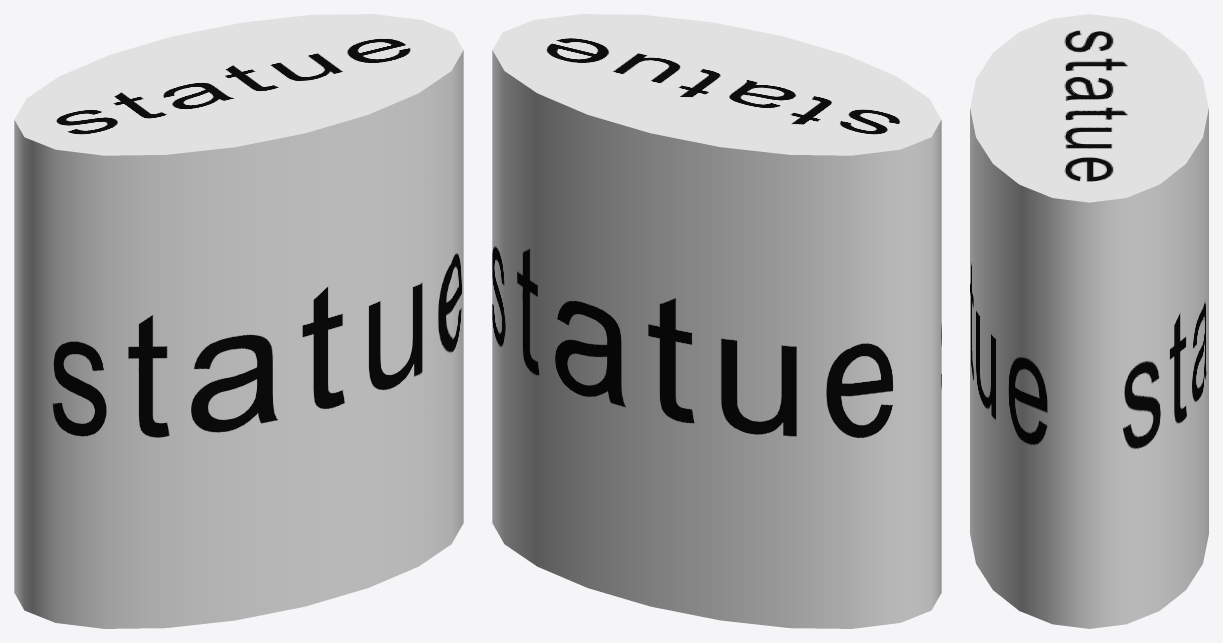
Rendered from Pillar (7).fbx.
3 views of the same model, side by side, from view 1: azimuth 30°, elevation 25°; view 2: azimuth 150°, elevation 25°; view 3: azimuth 270°, elevation 25° (orthographic). The views are drawn at different scales.
Visible parts, largest first — view 1: Pillar__7_; view 2: Pillar__7_; view 3: Pillar__7_.
Boxes of the visible parts, left/top/right/bottom form: Pillar__7_: left=14, top=14, right=463, bottom=628; Pillar__7_: left=492, top=14, right=941, bottom=628; Pillar__7_: left=970, top=14, right=1208, bottom=628.
Bounding box in the file's own units: 587 × 619 × 314.
